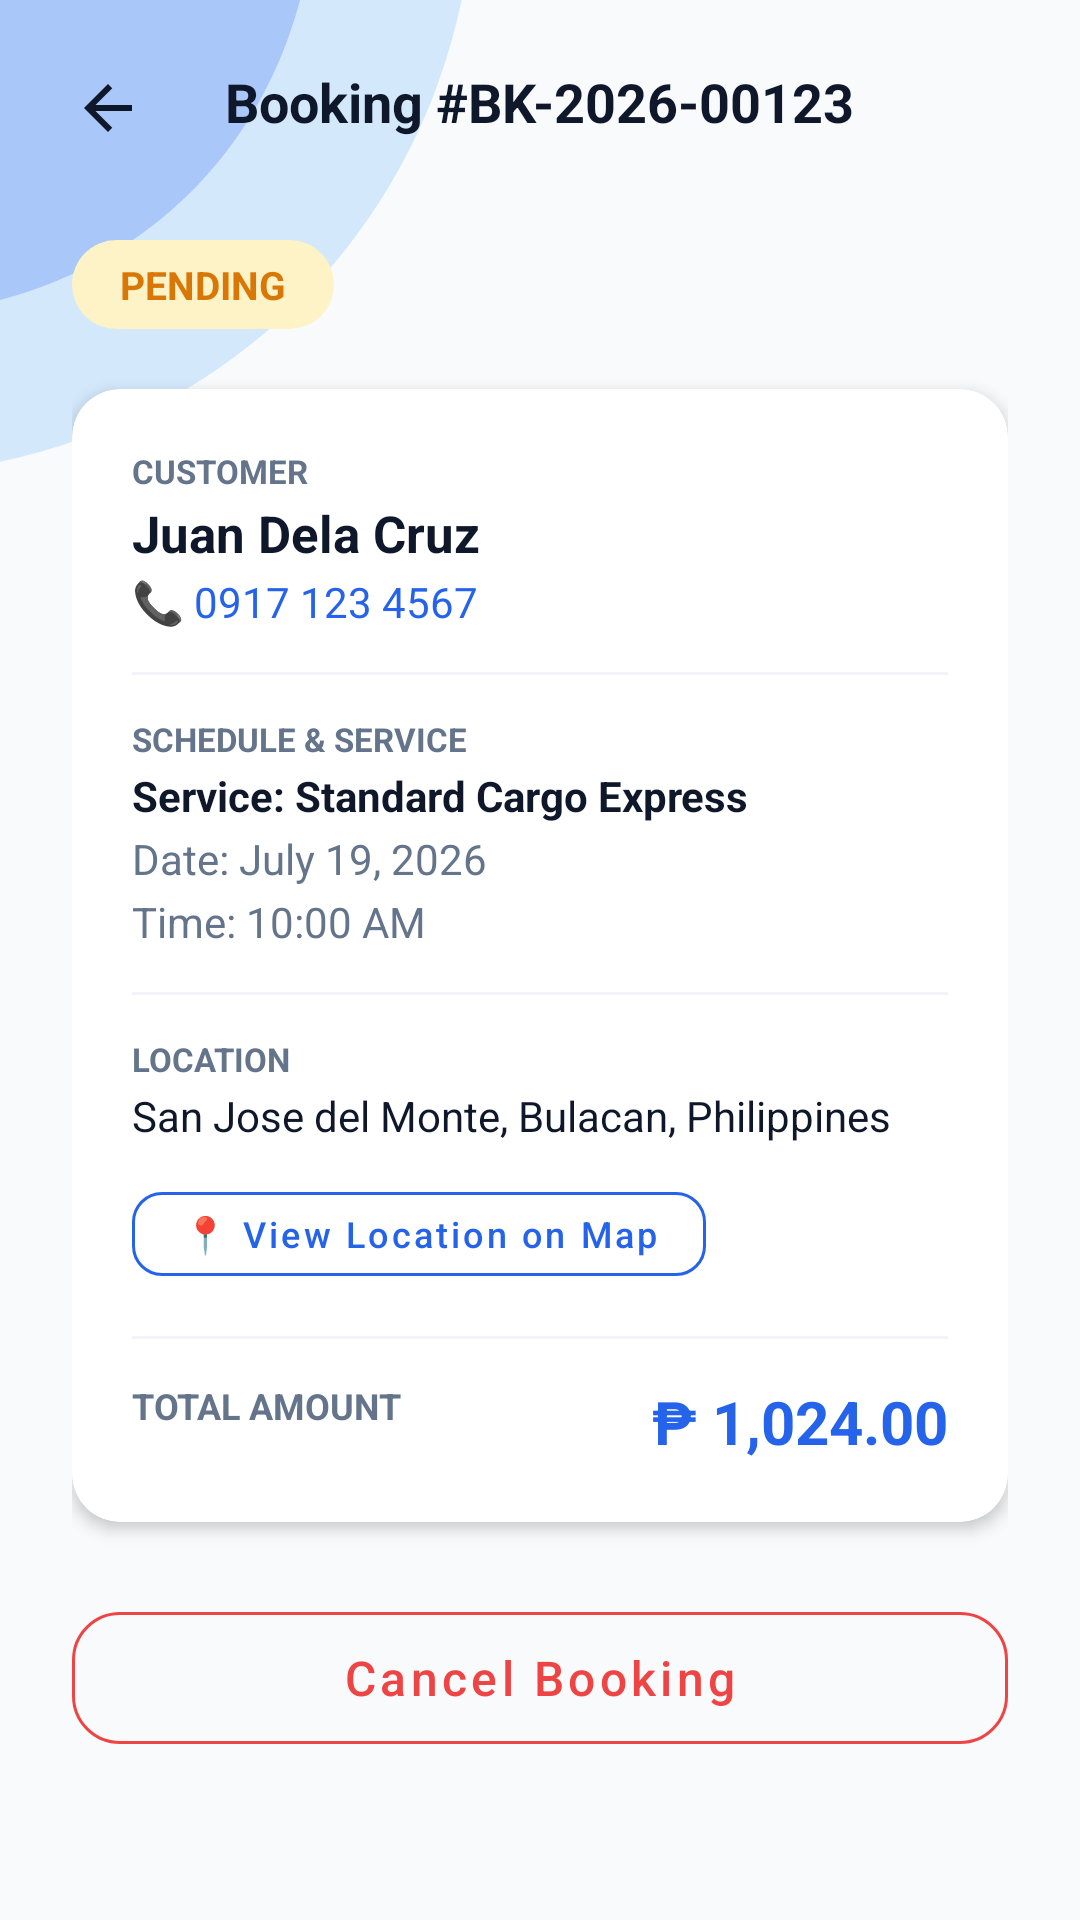

Named icons in this screenshot (1080px×1920px) and their bounding boxes, [left=x1, top=y1, right=x2, bottom=y2]:
Back Button: [left=84, top=84, right=132, bottom=132]
